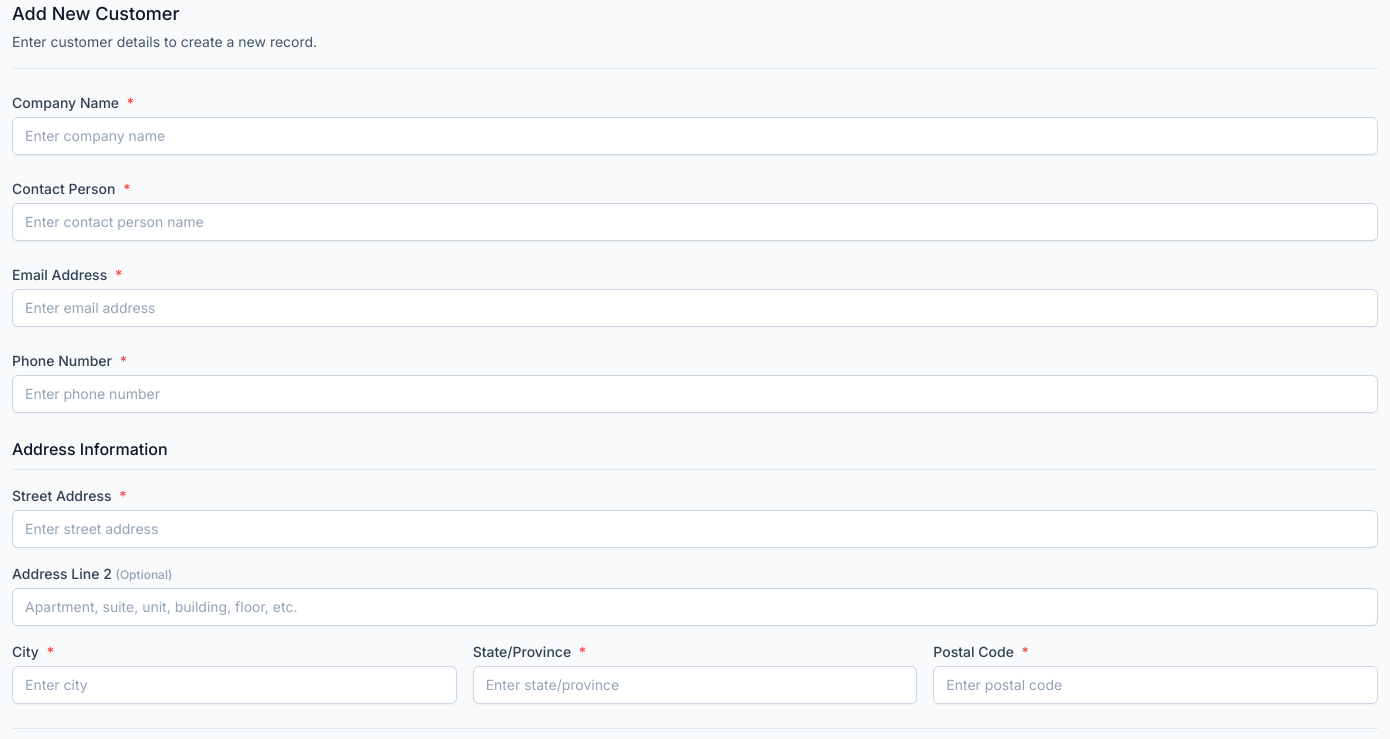
Scenario: CustomerForm.vue › Form Validation › displays validation errors from API response
// Fill form and submit
Type "Test Company" into the field with id "name". click: (695, 136)
box: [12,117,1378,155]
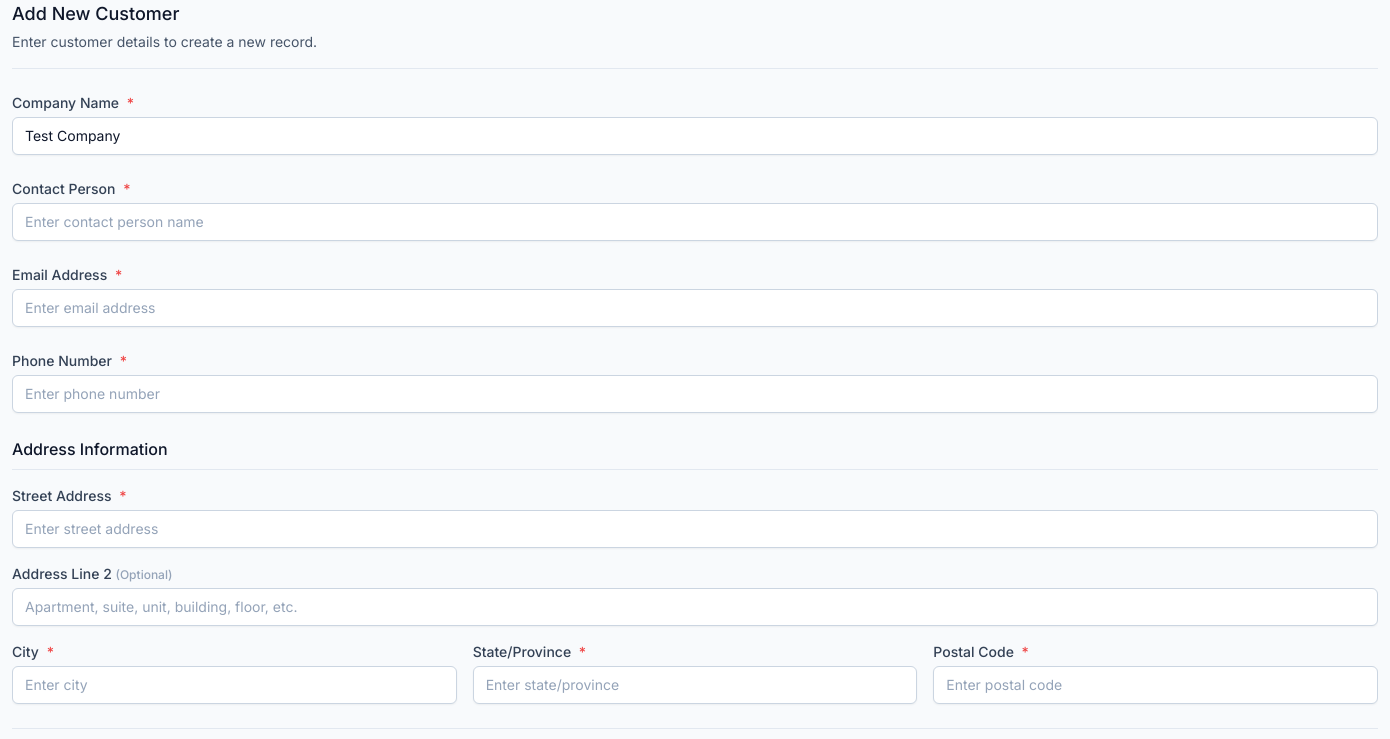
Type "John Doe" into the field with id "contact_person". click: (695, 222)
box: [12,203,1378,241]
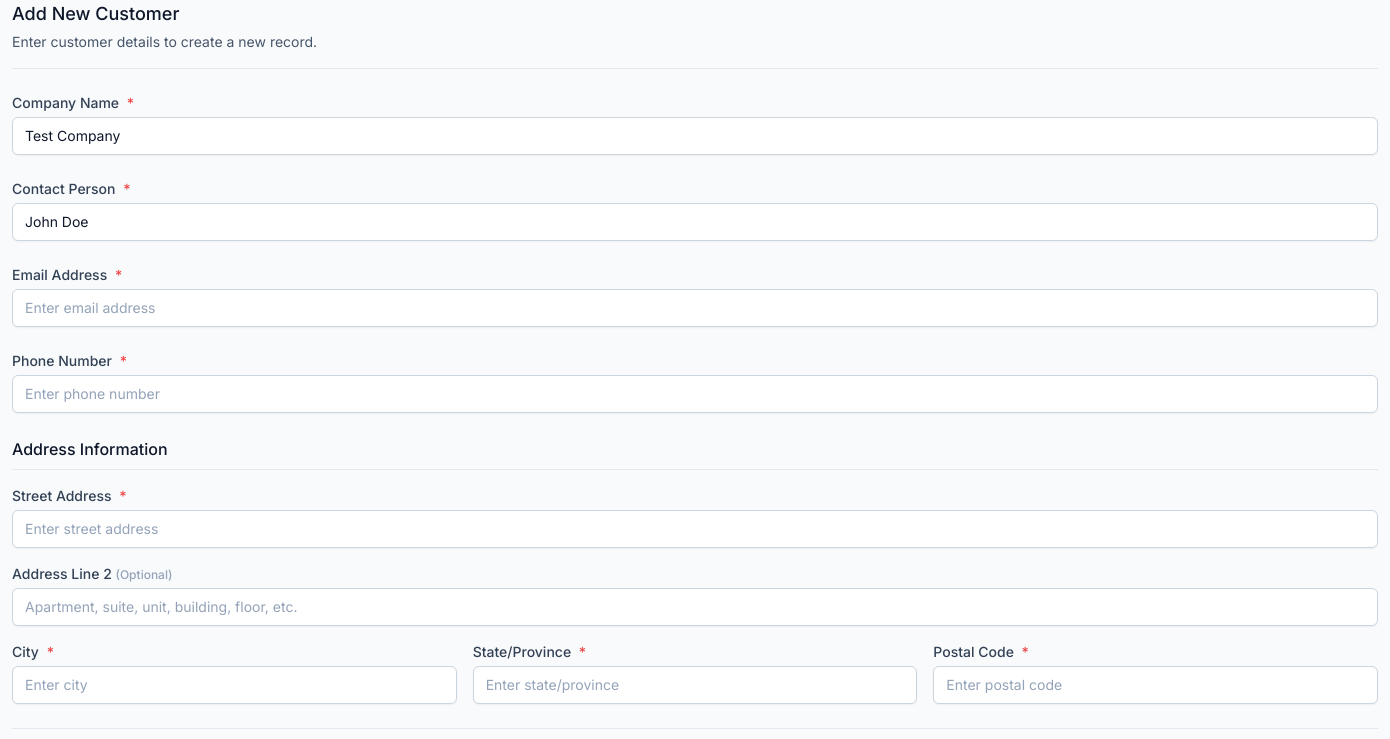
Type "john@test.com" into the field with id "email". click: (695, 308)
box: [12,289,1378,327]
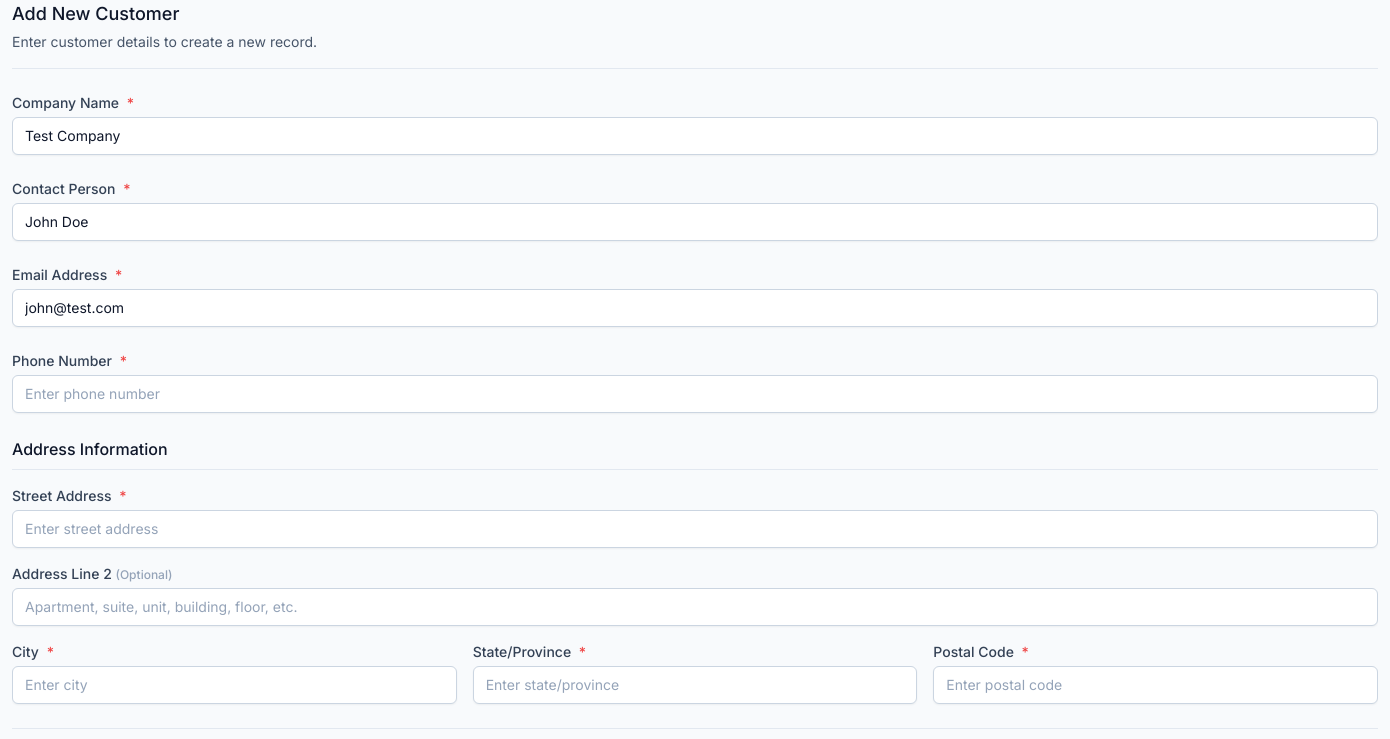
Type "123-456-7890" into the field labelled "Phone Number *". click: (695, 394)
box: [12,375,1378,413]
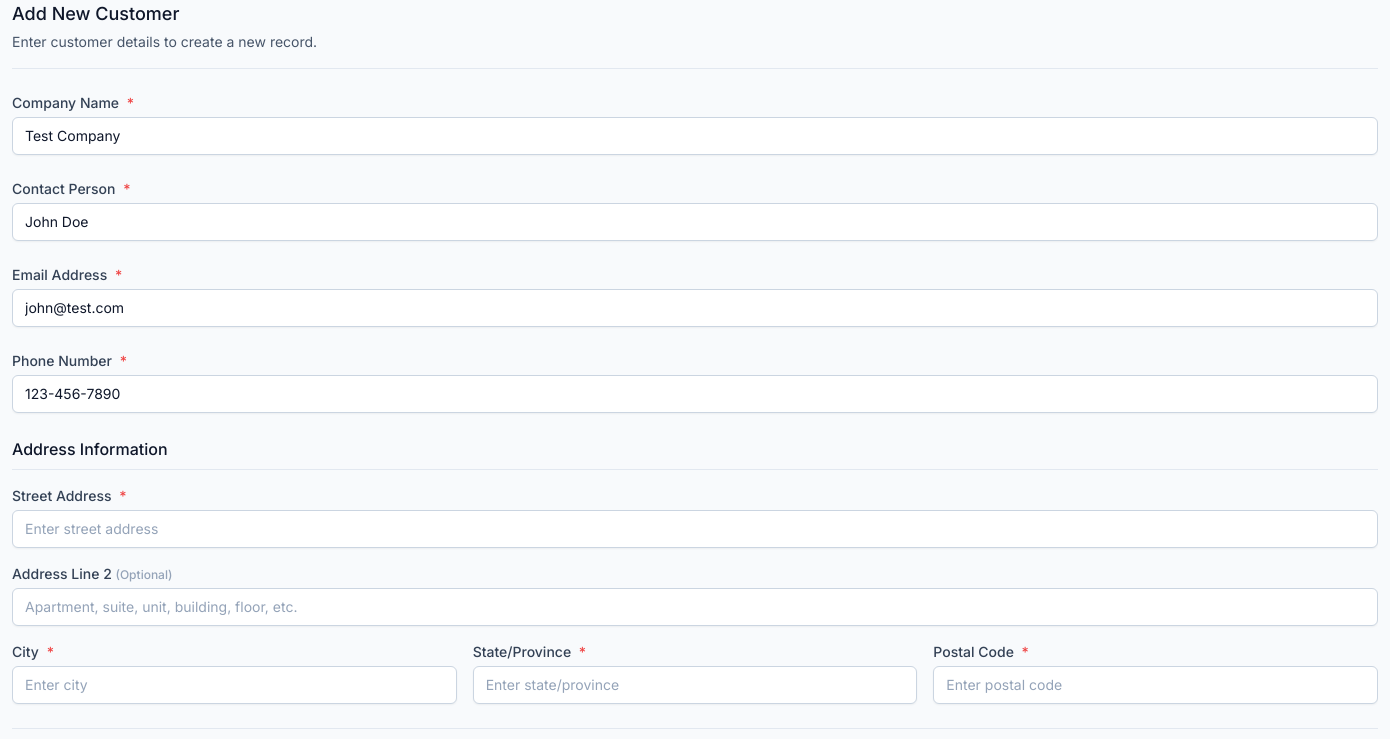
Type "123 Test St" into the field with id "address". click: (695, 529)
box: [12,510,1378,548]
(page scrolled)
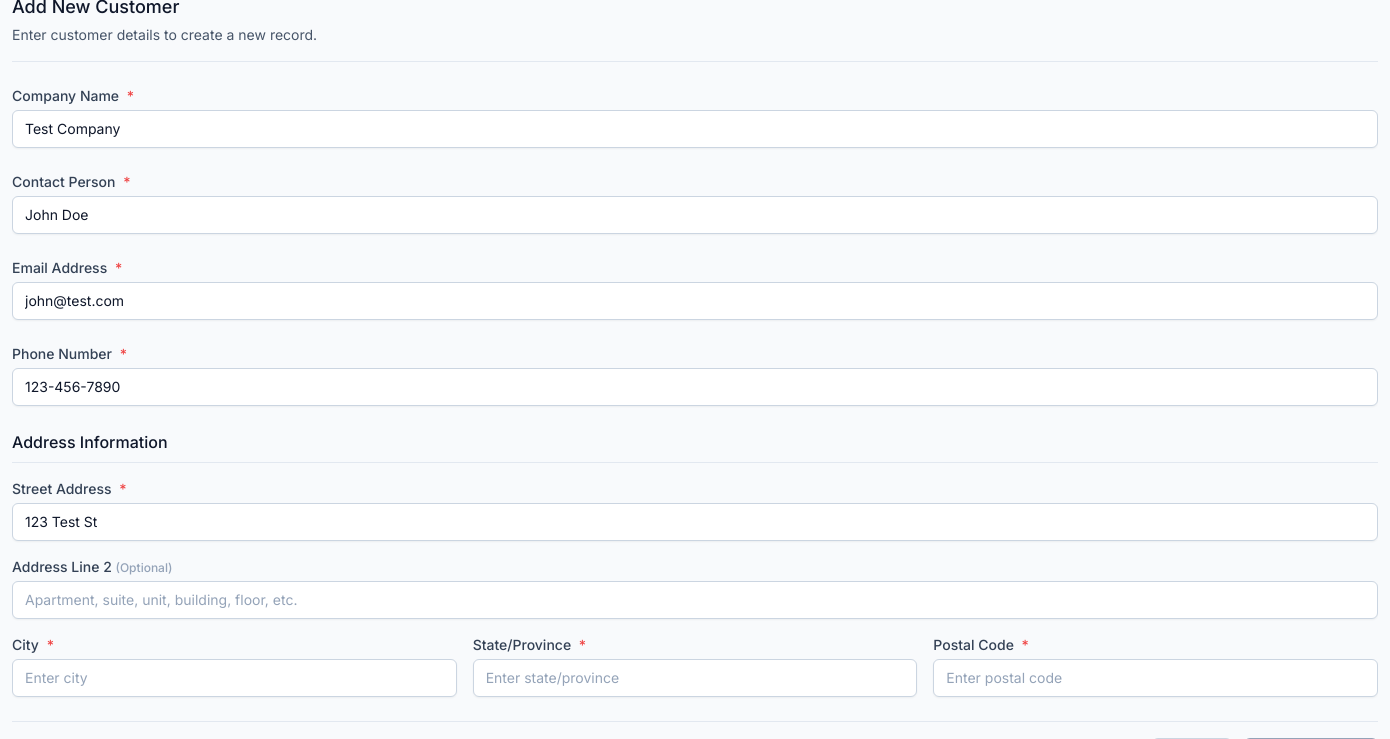
Submit the form
(page scrolled)
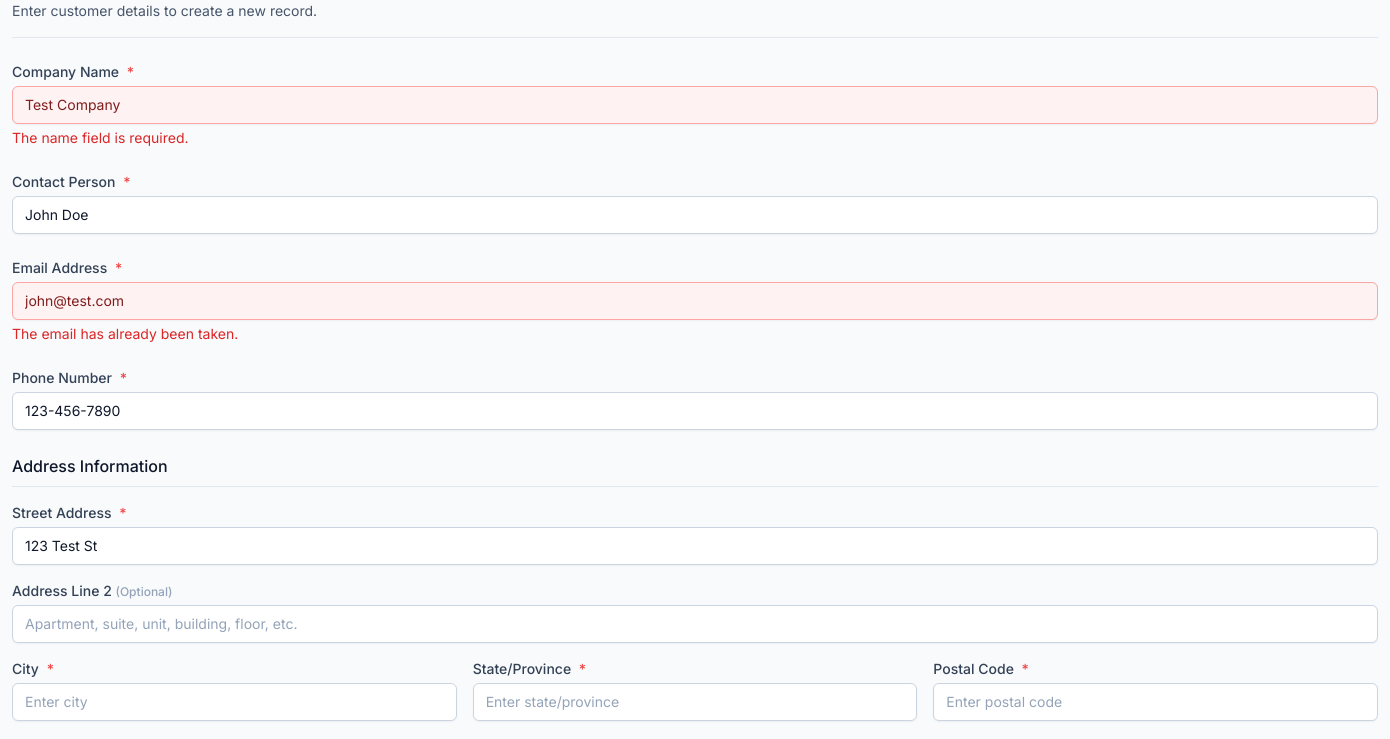
Check: the form shows "The email has already been taken.", box [12,325,238,342]
Check: the form shows "The name field is required.", box [12,129,188,146]
